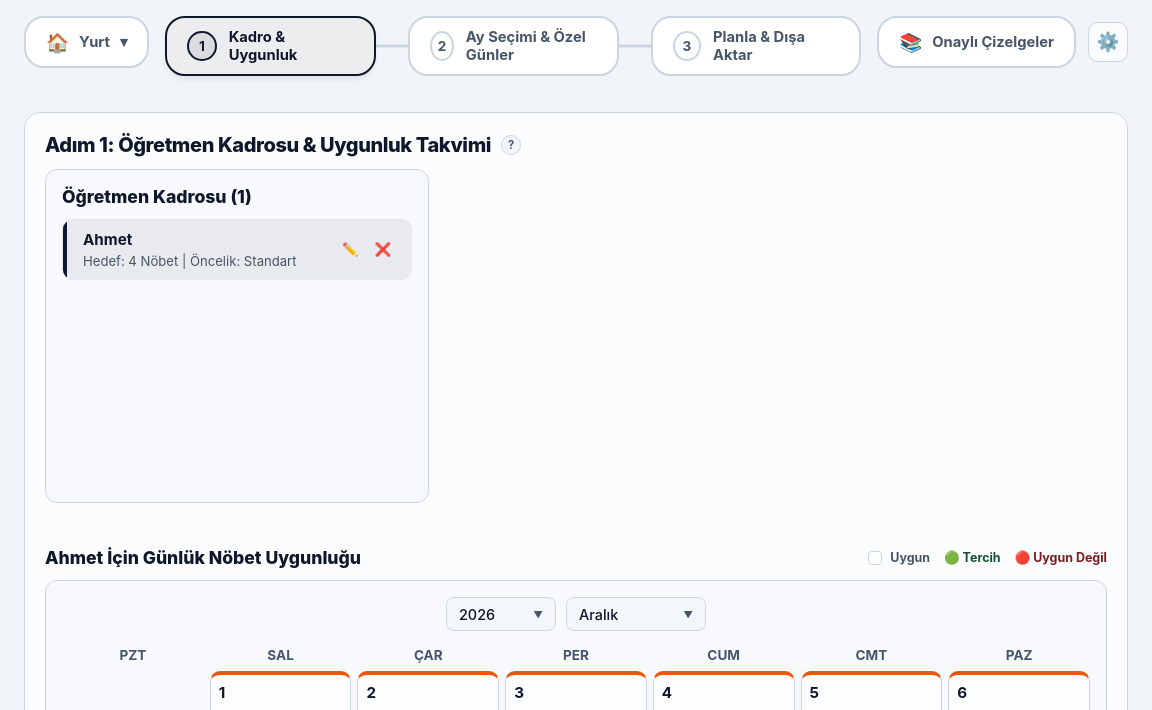
Scenario: approving a schedule › tells when the schedule on screen no longer matches its approved copy
Expected: the text "Adım 1: Öğretmen Kadrosu & Uygunluk Takvimi" is shown, x1=45 y1=133 x2=491 y2=157
Click the text "Planla & Dışa Aktar".
click(759, 46)  # box x1=713 y1=28 x2=805 y2=64
(page scrolled)
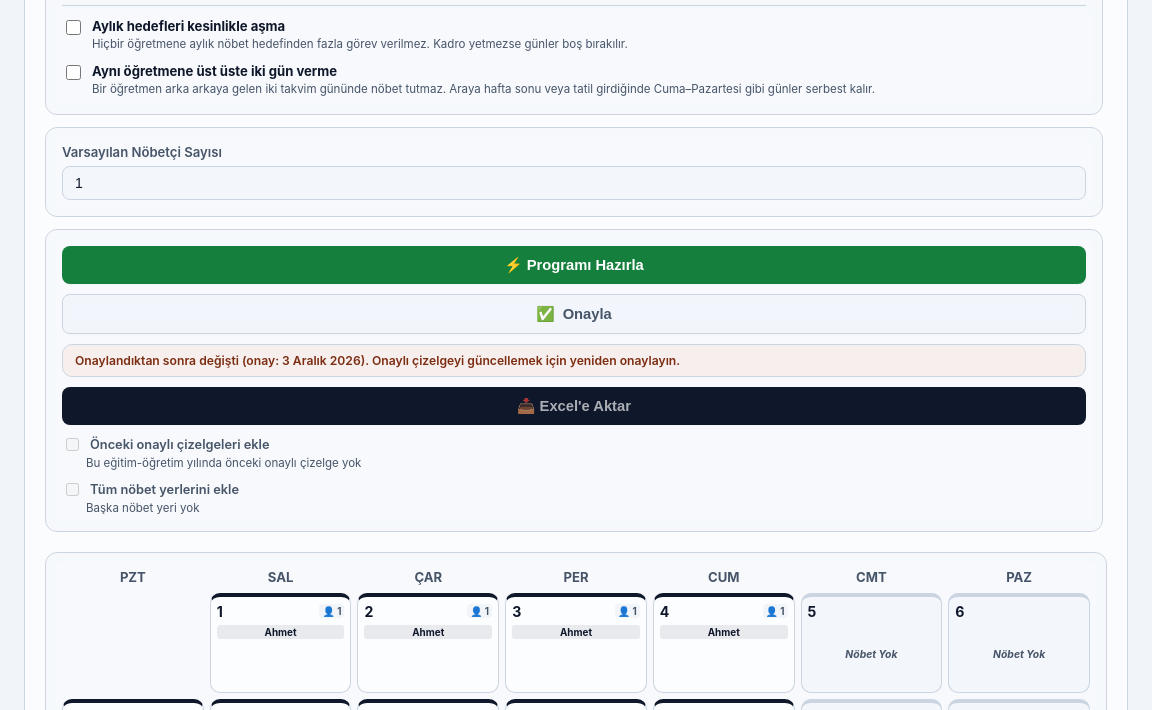
Expected: the text "Onaylandıktan sonra değişti" is shown, x1=75 y1=353 x2=680 y2=368
